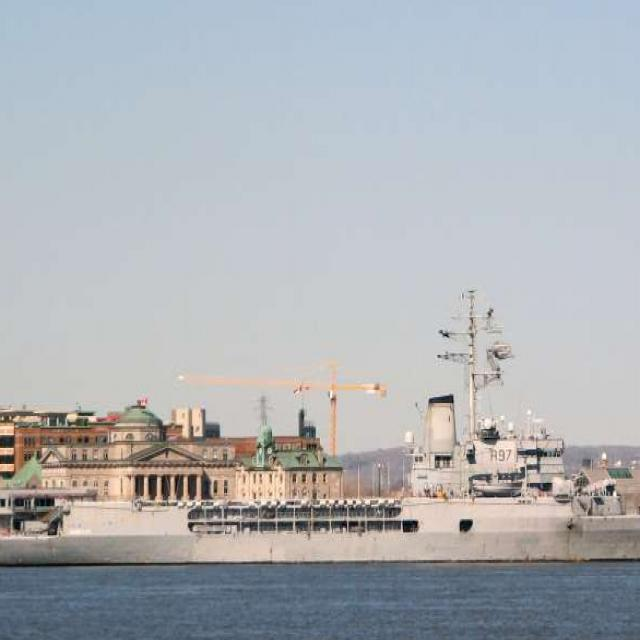Portanaves: (1, 285, 640, 574)
